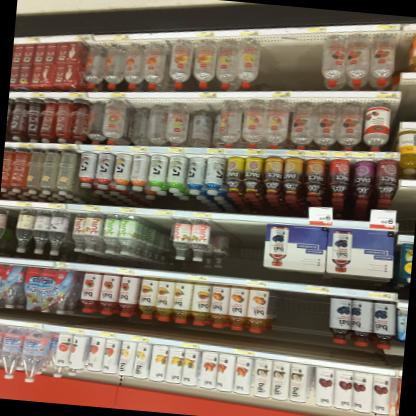empty_space: (208, 220, 266, 280), (267, 290, 302, 356), (297, 292, 330, 360), (295, 33, 324, 91), (273, 34, 300, 91), (133, 214, 157, 270), (255, 34, 277, 91), (152, 216, 174, 272), (0, 206, 20, 257), (397, 187, 416, 235), (399, 79, 416, 122)
